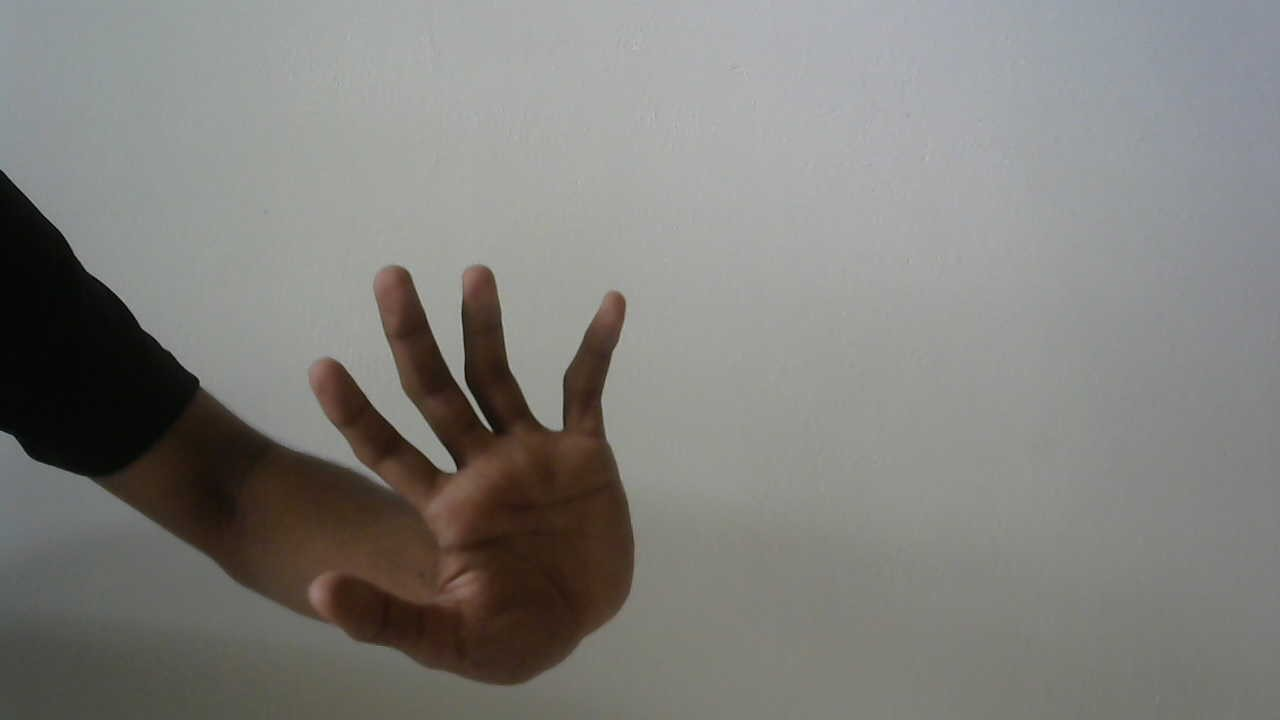hello: (294, 258, 654, 692)
